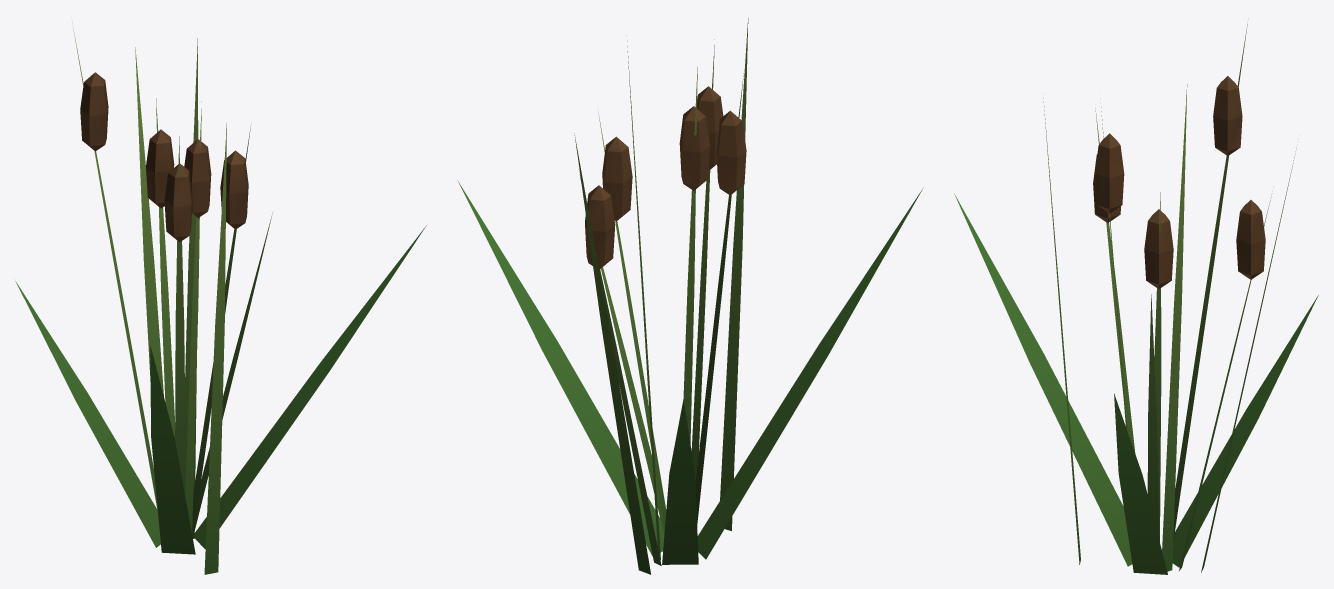
Rendered from reeds.glb.
3 renders of one model, left to right at view 1: azimuth 30°, elevation 25°; view 2: azimuth 150°, elevation 25°; view 3: azimuth 270°, elevation 25°, orthographic. The views are drawn at different scales.
Visible parts, largest first — view 1: reeds; view 2: reeds; view 3: reeds.
Part boxes in pixels (x1,y1,x2,y2): reeds: [15, 21, 426, 574]; reeds: [457, 18, 923, 574]; reeds: [954, 19, 1318, 574].
Bounding box in the file's own units: 1.08 × 1.49 × 0.9477.
